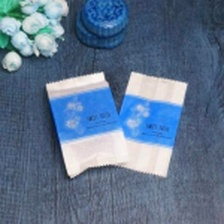snack: (37, 65, 135, 185), (105, 65, 191, 182)
